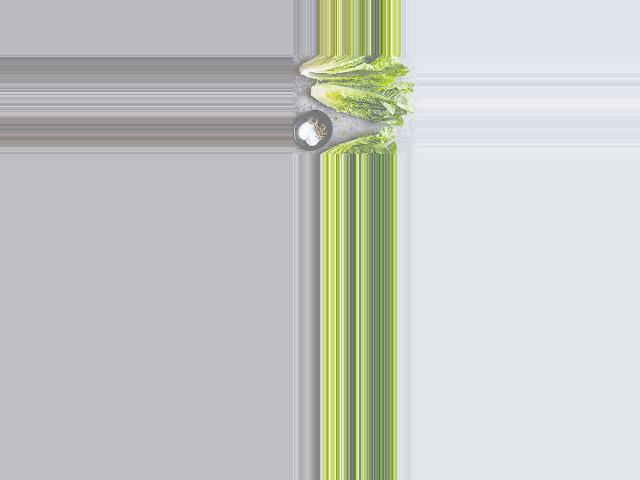lettuce: (292, 55, 401, 84)
